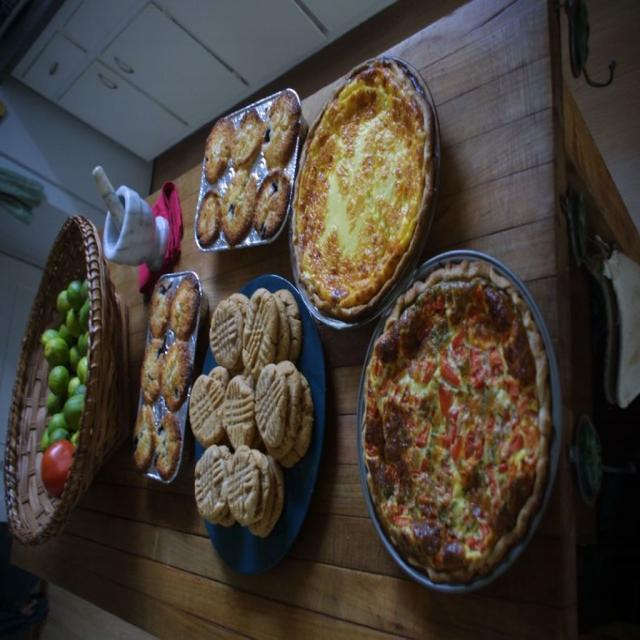Cookie: (184, 291, 317, 541)
